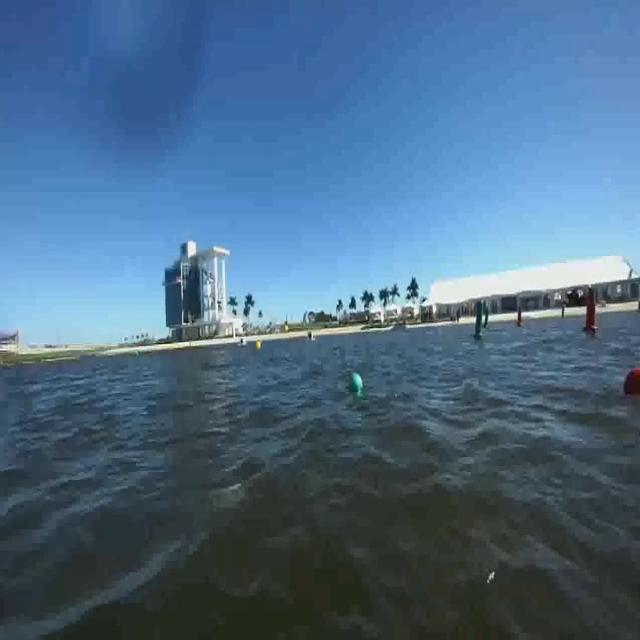green-buoy: (352, 376, 362, 392)
green-column-buoy: (472, 298, 488, 340)
red-buoy: (624, 366, 640, 398)
red-column-buoy: (583, 292, 600, 336)
yellow-buoy: (255, 339, 262, 353)
